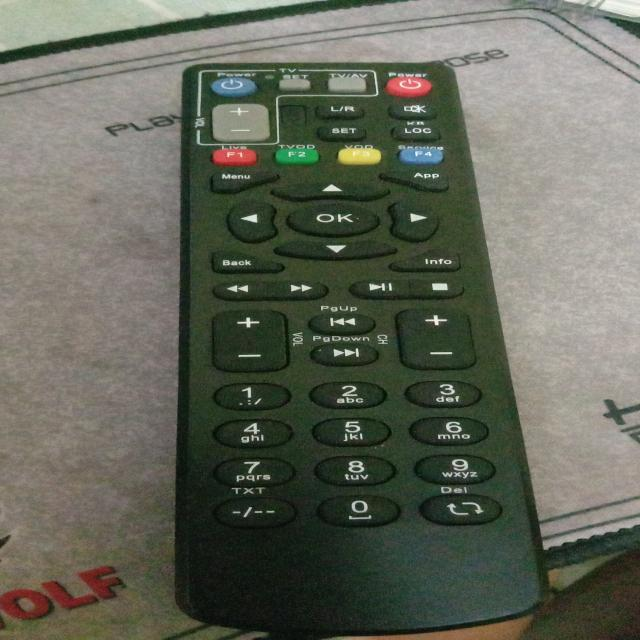remote: (174, 58, 539, 630)
